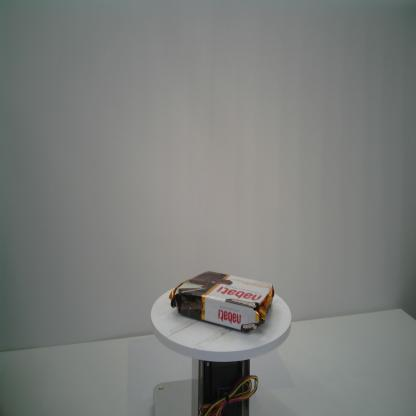Dessert: (169, 270, 275, 334)
